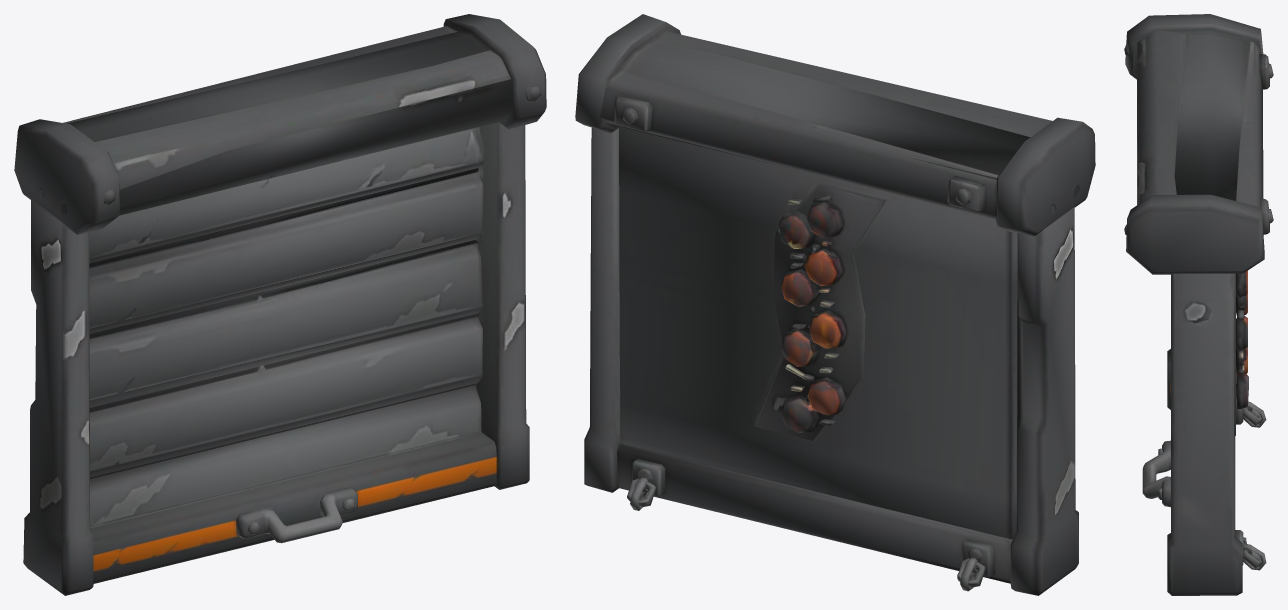
File: metal-shutter.glb
3 renders of one model, left to right at view 1: azimuth 30°, elevation 25°; view 2: azimuth 150°, elevation 25°; view 3: azimuth 270°, elevation 25°, orthographic. The views are drawn at different scales.
Parts seen in each view (by area): view 1: tripo_node_dd6757f5-e6c1-4d08-a1d2-5420544d001d; view 2: tripo_node_dd6757f5-e6c1-4d08-a1d2-5420544d001d; view 3: tripo_node_dd6757f5-e6c1-4d08-a1d2-5420544d001d.
Part boxes in pixels (bbox=[...]): tripo_node_dd6757f5-e6c1-4d08-a1d2-5420544d001d: bbox=[14, 14, 546, 595]; tripo_node_dd6757f5-e6c1-4d08-a1d2-5420544d001d: bbox=[575, 14, 1095, 595]; tripo_node_dd6757f5-e6c1-4d08-a1d2-5420544d001d: bbox=[1124, 14, 1273, 595].
Size of the model in its own units: 0.998 by 0.9161 by 0.3184.
Materials: 1 (1 with a texture image).
